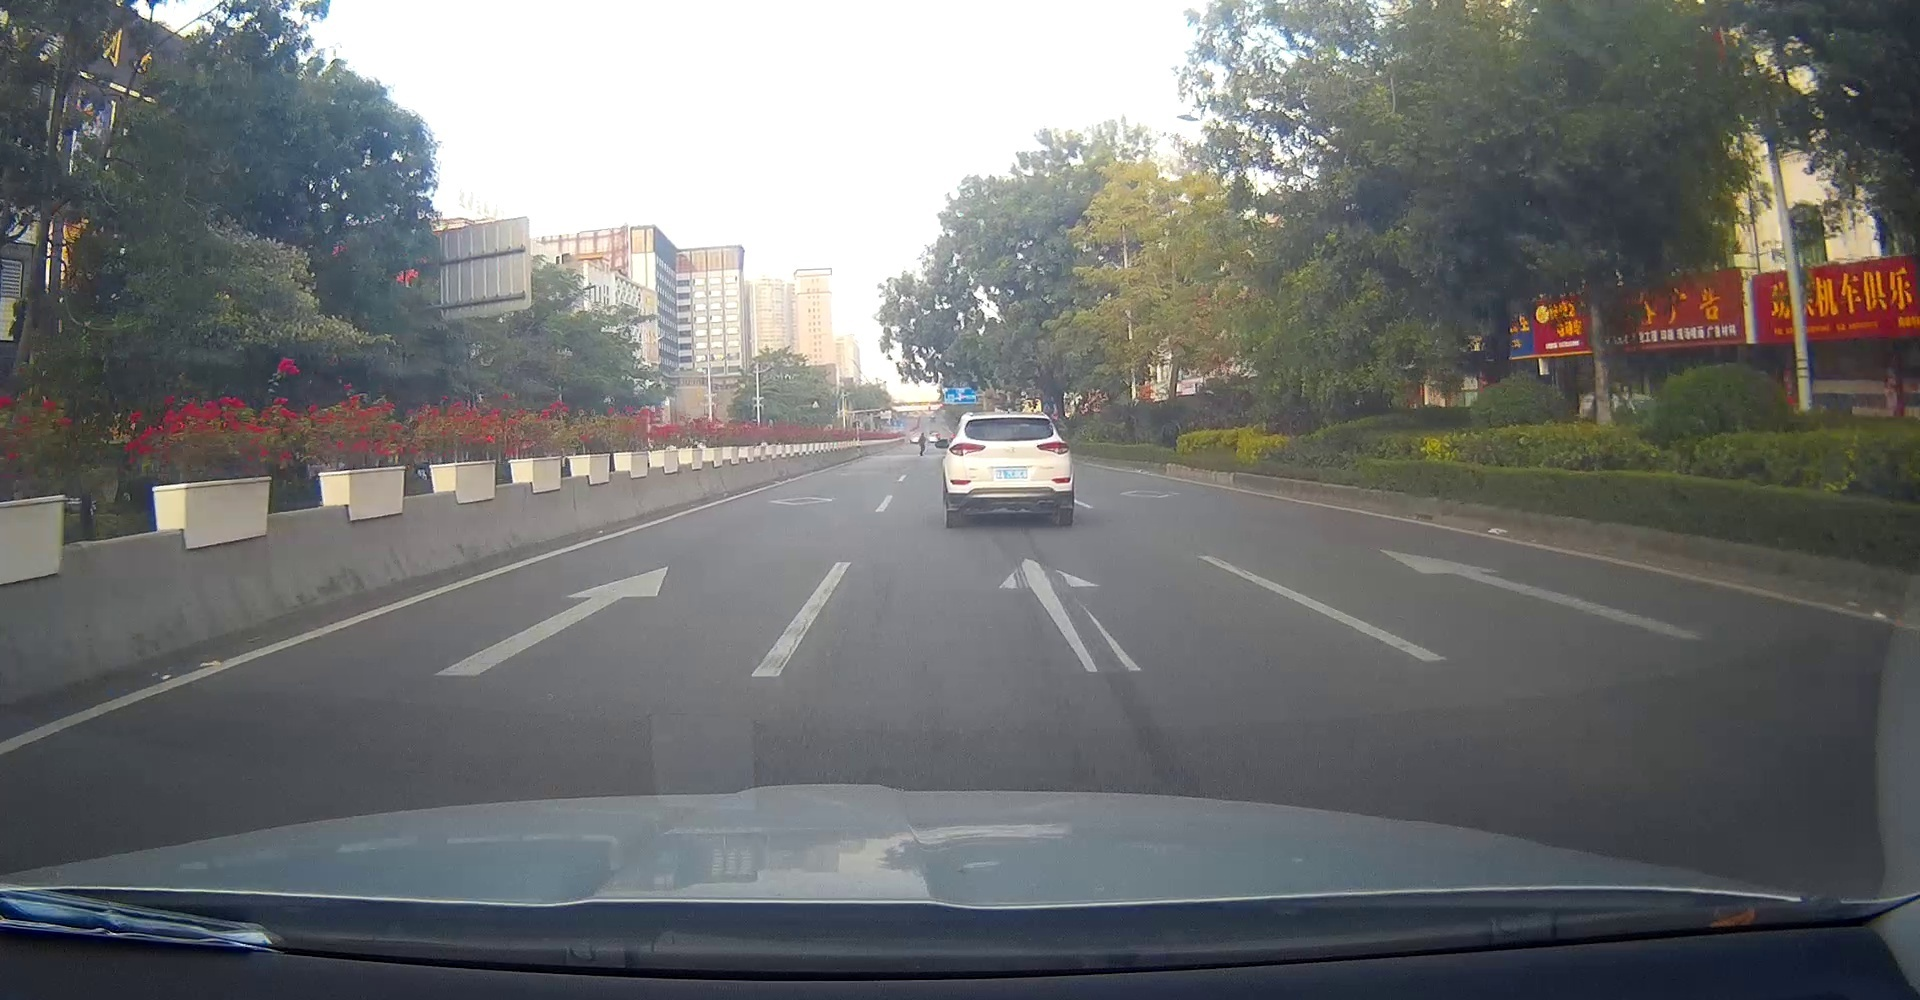L_light: (949, 442, 985, 457)
R_light: (1036, 442, 1069, 454)
T_light: (998, 418, 1020, 421)
day-no: (946, 414, 1073, 527)
